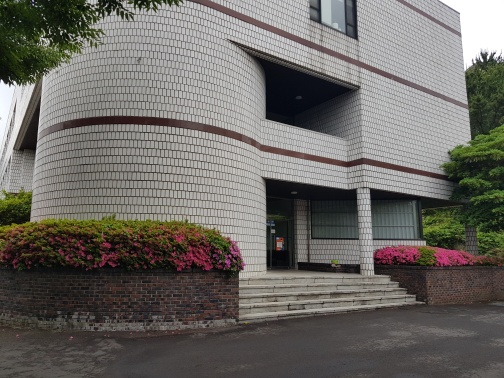Foreign Language Institute: (16, 19, 491, 310), (220, 152, 452, 317)
